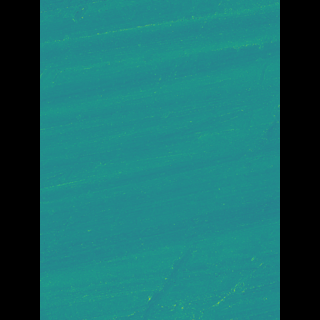Loch: (143, 36, 244, 320)
